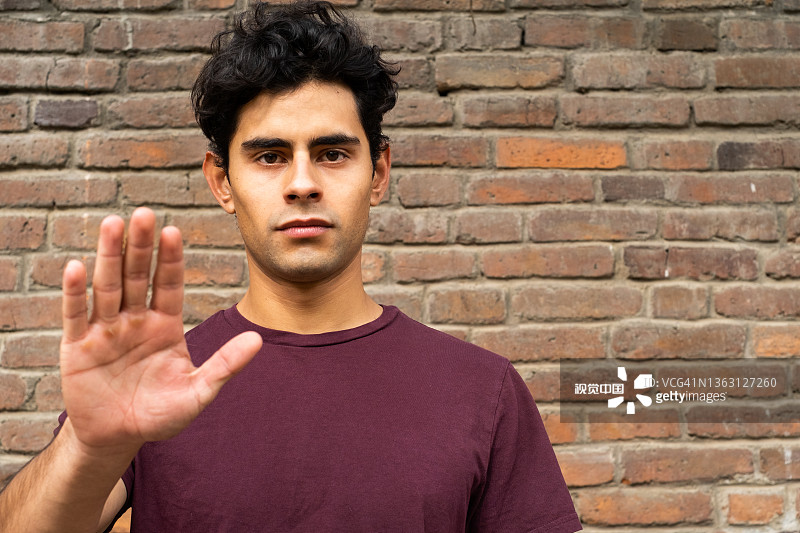no-phone: (43, 199, 282, 468)
